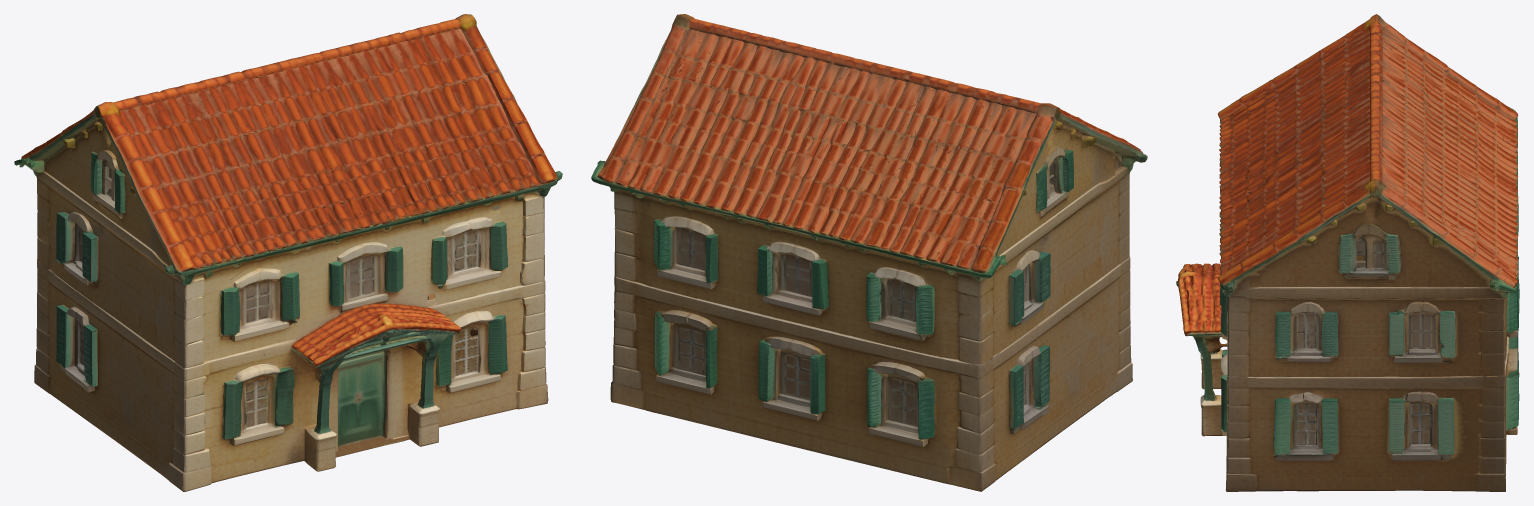
The model's file is r3_templer_house_a.glb.
3 renders of one model, left to right at view 1: azimuth 30°, elevation 25°; view 2: azimuth 150°, elevation 25°; view 3: azimuth 270°, elevation 25°, orthographic. The views are drawn at different scales.
Parts seen in each view (by area): view 1: geometry_0; view 2: geometry_0; view 3: geometry_0.
Boxes of the visible parts, <box> form: geometry_0: <box>14,14,562,491</box>; geometry_0: <box>591,14,1147,491</box>; geometry_0: <box>1176,14,1519,491</box>.
Size of the model in its own units: 14 by 11 by 11.
1 material, 1 textured.
